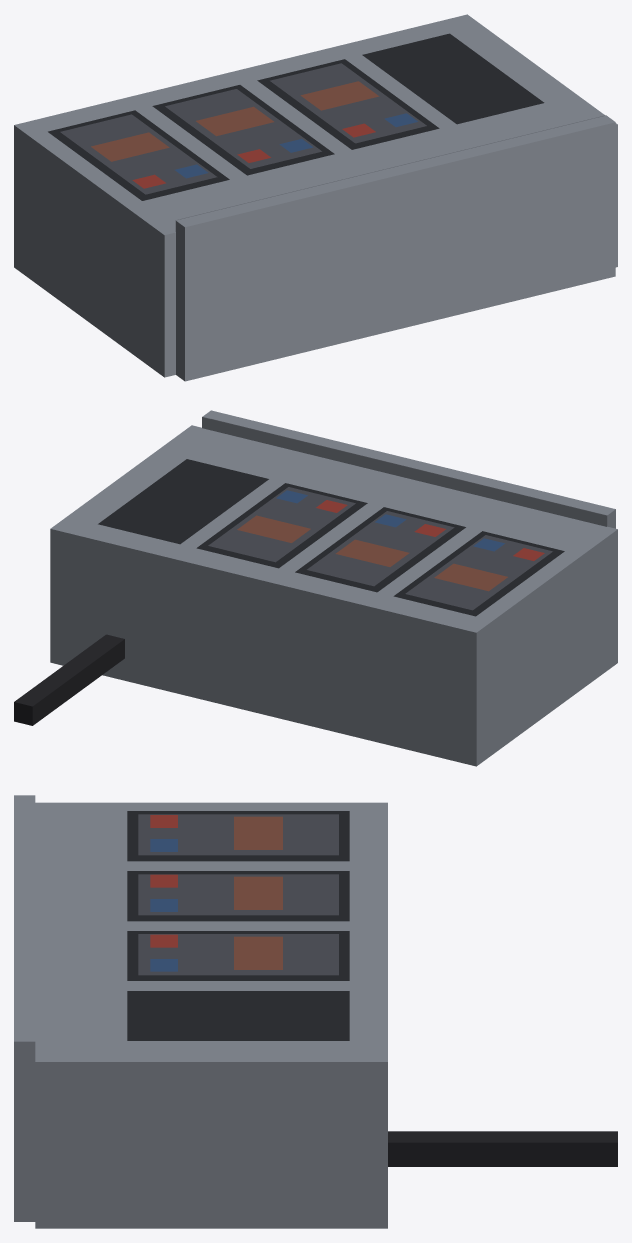
Rendered from bank_wall_premium_c3_S.obj.
3 views of the same model, one above another, from view 1: azimuth 30°, elevation 25°; view 2: azimuth 150°, elevation 25°; view 3: azimuth 270°, elevation 25° (orthographic). The views are drawn at different scales.
Parts seen in each view (by area): view 1: bank_wall_premium_c3_S; view 2: bank_wall_premium_c3_S; view 3: bank_wall_premium_c3_S.
Boxes of the visible parts, <box> form: bank_wall_premium_c3_S: <box>14,14,617,381</box>; bank_wall_premium_c3_S: <box>14,410,617,766</box>; bank_wall_premium_c3_S: <box>14,795,617,1228</box>.
Bounding box in the file's own units: 0.8 × 0.2635 × 0.788.
Materials: 1 (1 with a texture image).
